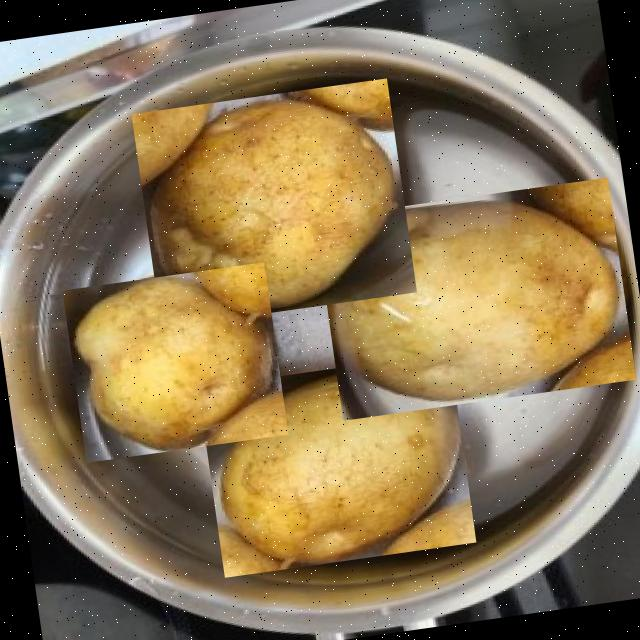Potato: (314, 178, 636, 421), (130, 79, 417, 328), (198, 352, 476, 578), (61, 262, 288, 463)
